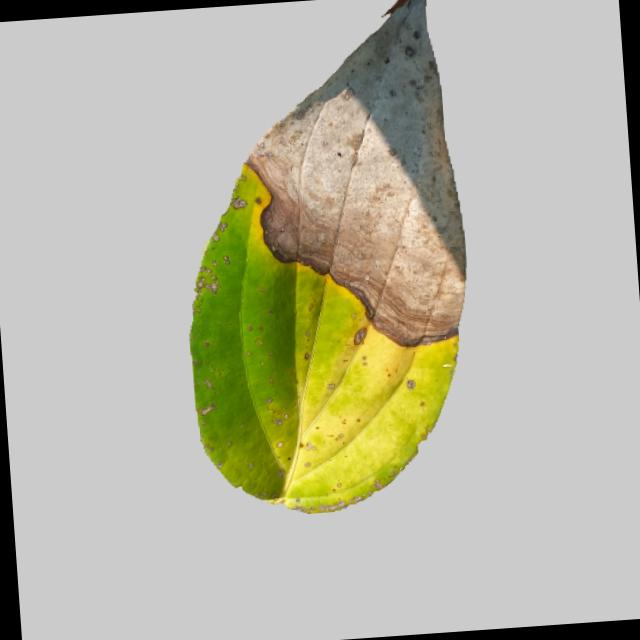leaf-blight: (155, 0, 486, 515)
